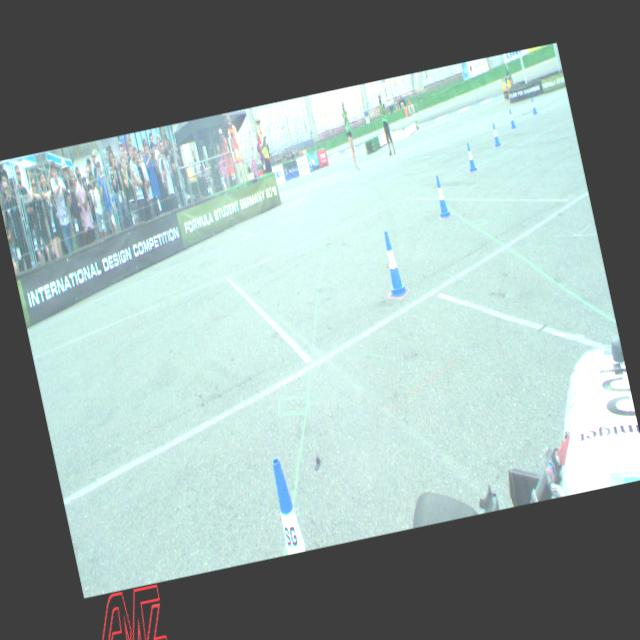blue_cone: (266, 454, 306, 554), (378, 228, 406, 296), (432, 174, 450, 217), (464, 142, 476, 170), (490, 122, 500, 146), (508, 108, 516, 128), (530, 97, 536, 113)
